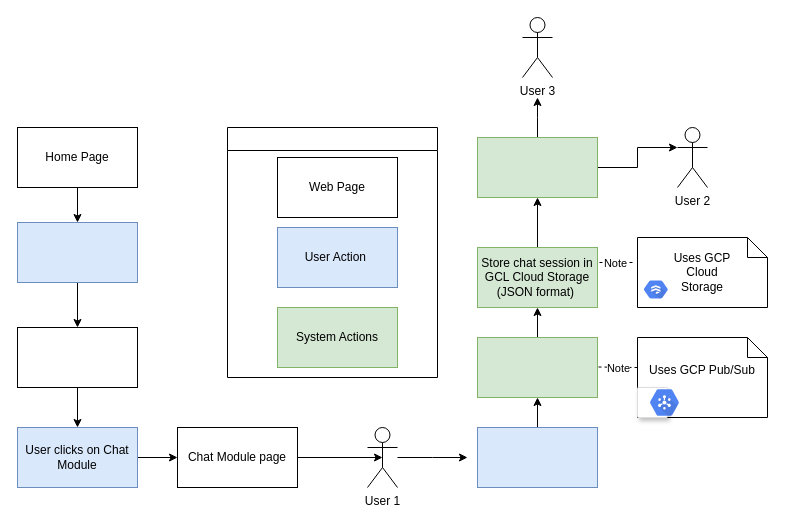
The diagram is 785 pixels wide and 526 high, and some of its shapes have lost their labels. The shapes that lost their labels are listed below. From the top down, each one's centre as x and y in pixels, then its label:
At [537,167]: "Display message to all the other users using Pub/Sub".
At [77,252]: "User Logs in".
At [332,252]: "Legend".
At [77,357]: "Welcome Page".
At [537,367]: "System uses GCP Pub/Sub to broadcast message".
At [537,457]: "User sends a message".
